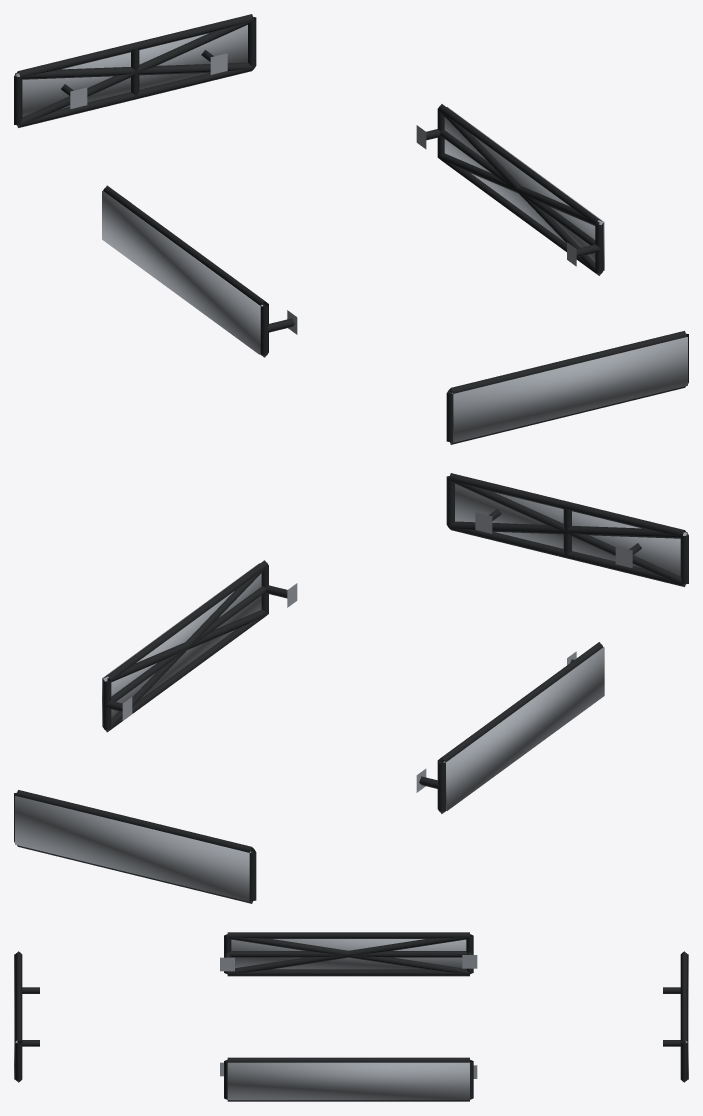
Rendered from ridgeway_sertao_protecao.glb.
3 views of the same model, one above another, from view 1: azimuth 30°, elevation 25°; view 2: azimuth 150°, elevation 25°; view 3: azimuth 270°, elevation 25° (orthographic). The views are drawn at different scales.
Visible parts, largest first — view 1: Protection_front_Level3_Details, Protection_left_Level3_Details, Protection_rear_Level1_Details, Protection_rear_Level3_Details, Protection_right_Level1_Details, Protection_rear_Level2_Details, Protection_right_Level2_Details, Protection_right_Level3_Details, Protection_front_Level1_Details, Protection_left_Level1_Details; view 2: Protection_rear_Level3_Details, Protection_left_Level3_Details, Protection_front_Level1_Details, Protection_front_Level3_Details, Protection_right_Level1_Details, Protection_front_Level2_Details, Protection_right_Level2_Details, Protection_right_Level3_Details, Protection_rear_Level1_Details, Protection_left_Level1_Details; view 3: Protection_right_Level3_Details, Protection_left_Level2_Details, Protection_left_Level1_Details, Protection_left_Level3_Details, Protection_right_Level1_Details, Protection_rear_Level1_Details, Protection_front_Level1_Details.
Boxes of the visible parts, x1,y1,x2,y2 form: Protection_front_Level3_Details: (451,337,687,442); Protection_left_Level3_Details: (102,191,263,354); Protection_rear_Level1_Details: (14,14,256,127); Protection_rear_Level3_Details: (15,25,247,117); Protection_right_Level1_Details: (416,104,603,275); Protection_rear_Level2_Details: (16,20,253,127); Protection_right_Level2_Details: (438,109,602,275); Protection_right_Level3_Details: (444,107,604,270); Protection_front_Level1_Details: (446,331,688,444); Protection_left_Level1_Details: (103,185,297,357); Protection_rear_Level3_Details: (15,796,251,901); Protection_left_Level3_Details: (443,647,604,810); Protection_front_Level1_Details: (446,473,688,586); Protection_front_Level3_Details: (455,484,687,576); Protection_right_Level1_Details: (103,560,297,732); Protection_front_Level2_Details: (449,479,686,586); Protection_right_Level2_Details: (103,566,268,731); Protection_right_Level3_Details: (102,563,261,726); Protection_rear_Level1_Details: (14,790,256,903); Protection_left_Level1_Details: (416,642,603,813); Protection_right_Level3_Details: (227,1062,469,1100); Protection_left_Level2_Details: (227,935,470,974); Protection_left_Level1_Details: (220,932,477,976); Protection_left_Level3_Details: (231,939,466,969); Protection_right_Level1_Details: (220,1057,477,1101); Protection_rear_Level1_Details: (663,951,687,1082); Protection_front_Level1_Details: (15,951,39,1082).
Bounding box in the file's own units: 2.24 × 0.354 × 4.93.
Materials: 1 (1 with a texture image).
